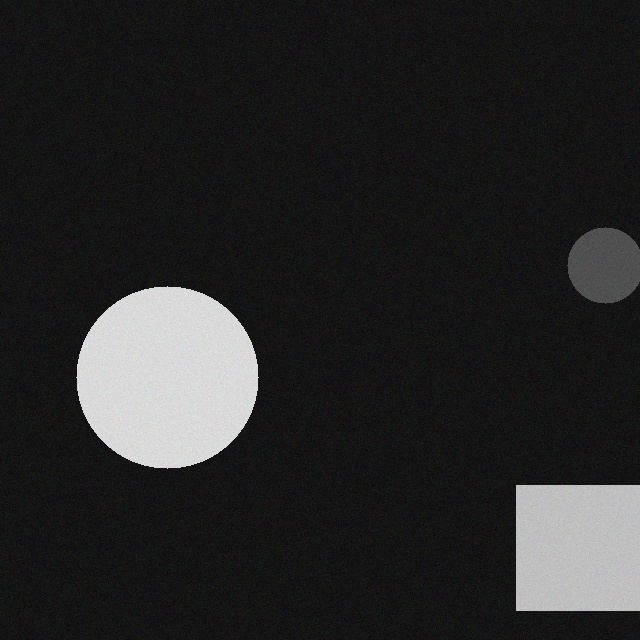circle: (62, 290, 244, 472), (553, 231, 629, 307)
square: (502, 489, 627, 614)
